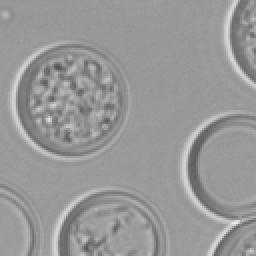picoshell: (10, 42, 128, 160), (50, 186, 168, 254), (188, 114, 254, 216), (222, 0, 254, 88), (0, 186, 36, 254), (212, 218, 254, 254)
